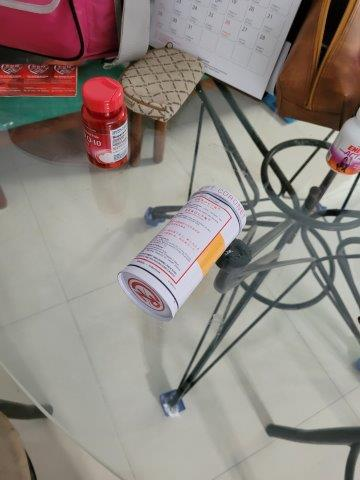kaleng: (118, 181, 249, 320)
